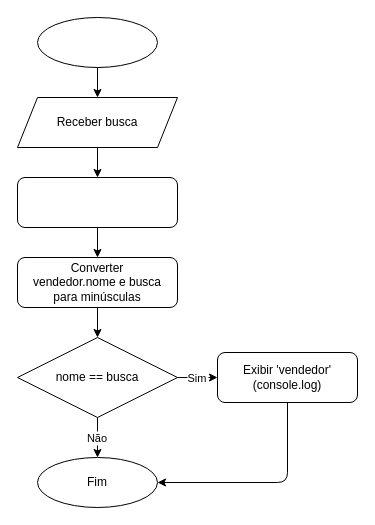
Some shapes in this 375 by 525 pixel diagram are drawn without their labels. The shapes that lost their labels are listed below. From the top down, each one's centre as x and y in pixels, then its label:
At pixel 97 42: "Início".
At pixel 97 202: "Buscar vendedor na lista de vendedores".
